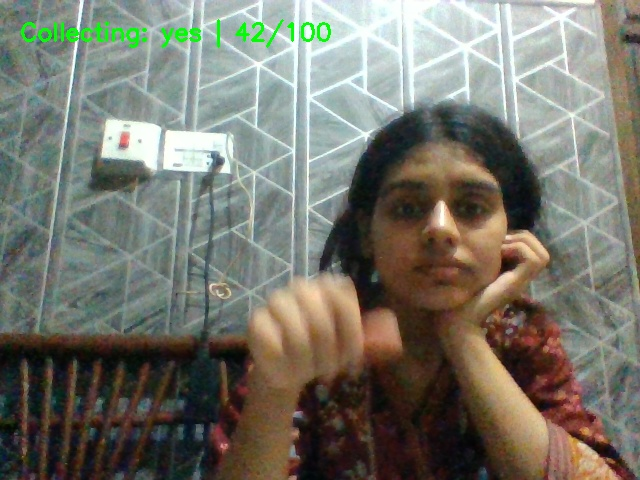yes: (222, 248, 411, 420)
